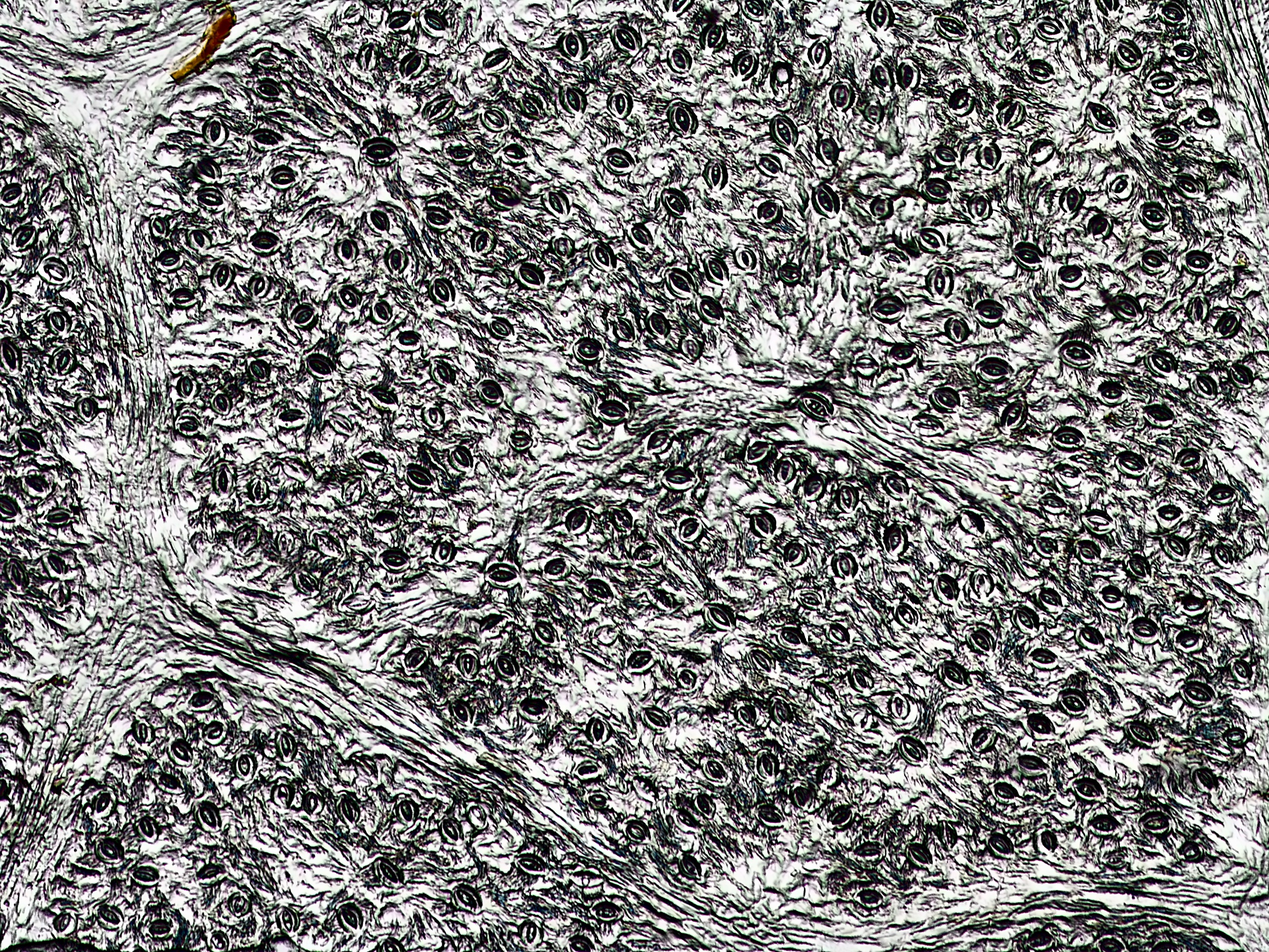stomata: (357, 137, 400, 169), (933, 659, 973, 693), (665, 99, 699, 139), (306, 525, 346, 559), (1175, 679, 1218, 710), (793, 391, 837, 421), (973, 355, 1014, 386), (1019, 709, 1059, 740), (1056, 340, 1097, 369), (1106, 293, 1145, 323), (538, 188, 572, 222), (877, 469, 912, 502), (609, 22, 645, 54), (592, 396, 633, 424), (243, 229, 282, 258), (1123, 617, 1163, 645), (1083, 100, 1118, 132), (448, 882, 483, 914), (894, 735, 930, 766), (660, 266, 696, 297), (917, 175, 955, 204), (372, 856, 404, 890), (1009, 240, 1045, 270), (597, 148, 637, 175), (35, 256, 71, 286), (1077, 510, 1118, 536), (1122, 719, 1160, 747), (868, 295, 906, 323), (933, 13, 971, 41), (445, 444, 478, 476), (1056, 687, 1090, 718), (768, 113, 799, 147), (47, 908, 81, 939), (340, 588, 379, 615), (657, 467, 699, 492), (811, 183, 841, 218), (421, 94, 457, 123), (873, 243, 910, 271), (828, 78, 856, 115), (569, 337, 606, 365), (249, 47, 287, 74), (929, 571, 960, 604), (659, 187, 692, 218), (332, 901, 365, 932), (163, 737, 196, 768), (199, 114, 230, 147), (923, 264, 953, 298), (557, 82, 587, 116), (512, 261, 546, 291), (744, 647, 779, 676), (1011, 753, 1053, 777), (484, 184, 520, 212), (363, 385, 399, 413), (243, 128, 285, 152), (848, 840, 888, 865), (998, 400, 1029, 432), (866, 0, 897, 32), (192, 800, 223, 832), (44, 305, 74, 338), (1144, 348, 1178, 377), (91, 903, 125, 932), (1072, 623, 1107, 651), (911, 227, 946, 255), (1048, 425, 1087, 450), (273, 725, 298, 764), (971, 298, 1007, 325), (605, 84, 632, 120), (1070, 777, 1107, 803), (1202, 482, 1239, 508), (482, 562, 519, 588), (426, 276, 458, 306), (401, 464, 434, 493), (473, 378, 506, 407), (701, 602, 735, 630), (901, 840, 935, 868), (1071, 538, 1105, 566), (699, 20, 727, 54), (87, 785, 115, 819), (263, 164, 297, 192), (1148, 125, 1186, 150), (1153, 0, 1191, 25), (1019, 59, 1057, 84), (806, 679, 841, 706), (1150, 500, 1185, 527), (372, 548, 411, 572), (190, 188, 229, 212), (631, 774, 661, 805), (701, 254, 732, 284), (587, 240, 617, 271), (446, 698, 477, 728), (964, 627, 996, 656), (1123, 551, 1152, 583), (965, 191, 994, 223), (578, 578, 615, 603), (301, 351, 338, 376), (91, 837, 124, 865), (702, 157, 729, 191), (2, 558, 29, 592), (1180, 249, 1215, 275), (815, 132, 841, 167), (418, 205, 453, 231), (829, 550, 859, 580), (946, 86, 976, 116), (695, 296, 725, 326), (1113, 40, 1144, 69), (992, 23, 1023, 52), (362, 205, 393, 234), (288, 301, 319, 330), (1008, 606, 1040, 634), (1025, 137, 1057, 165), (231, 523, 259, 555), (191, 155, 223, 183), (1051, 460, 1084, 487), (942, 317, 975, 344), (558, 28, 585, 61), (753, 748, 779, 782), (639, 705, 673, 731), (1114, 450, 1148, 476), (475, 612, 509, 638), (1143, 70, 1178, 95), (1030, 16, 1065, 41), (395, 794, 420, 829), (956, 508, 986, 537), (689, 790, 719, 819), (1159, 533, 1189, 562), (867, 61, 896, 91), (418, 8, 447, 38), (398, 51, 427, 81), (428, 358, 458, 387), (814, 761, 845, 789), (1104, 173, 1135, 201), (516, 917, 544, 948), (700, 756, 732, 783), (584, 714, 611, 746), (1172, 447, 1204, 474), (1138, 202, 1170, 229), (1058, 183, 1085, 215), (994, 101, 1026, 128), (927, 142, 959, 169), (334, 794, 361, 826), (229, 751, 256, 783), (1095, 584, 1128, 610), (21, 473, 54, 499), (439, 140, 478, 162), (769, 59, 792, 96), (752, 803, 786, 828), (806, 37, 831, 71), (498, 142, 532, 167), (1, 339, 26, 373), (48, 345, 77, 374), (9, 222, 38, 251), (988, 780, 1023, 804), (622, 650, 657, 674), (547, 232, 575, 262), (169, 412, 204, 436), (248, 77, 283, 101), (985, 833, 1016, 860), (505, 425, 536, 452), (365, 510, 403, 532), (895, 60, 921, 92), (732, 49, 758, 81), (1136, 811, 1172, 834), (1140, 404, 1176, 427), (1054, 264, 1087, 289), (11, 428, 44, 453), (883, 520, 907, 554), (774, 626, 808, 650), (645, 307, 669, 341), (164, 287, 201, 309), (747, 510, 776, 538), (891, 601, 920, 629), (846, 665, 874, 694), (1226, 361, 1255, 389), (1189, 372, 1218, 400), (607, 504, 635, 533), (563, 507, 591, 536), (742, 437, 772, 464), (822, 622, 852, 649), (71, 394, 101, 421), (930, 385, 961, 411), (767, 695, 793, 726), (274, 905, 300, 936), (1018, 503, 1053, 526), (514, 854, 549, 877), (182, 690, 217, 713), (184, 228, 219, 251), (1084, 814, 1124, 834), (1183, 294, 1208, 326), (647, 587, 679, 612), (792, 587, 825, 611), (1025, 646, 1058, 670), (1021, 927, 1054, 951), (631, 542, 664, 566), (587, 899, 623, 921), (479, 107, 512, 131), (780, 539, 808, 567), (419, 402, 448, 429), (517, 92, 546, 119), (245, 357, 274, 384), (1172, 174, 1206, 197), (1084, 214, 1114, 240), (975, 142, 1001, 172), (753, 152, 783, 178), (531, 620, 561, 646), (430, 536, 456, 566), (969, 568, 994, 599), (480, 48, 511, 73), (192, 862, 227, 884), (1137, 250, 1169, 274), (908, 413, 941, 436), (1036, 585, 1064, 612), (755, 198, 783, 225), (354, 450, 390, 471), (212, 462, 233, 498), (676, 852, 702, 881), (666, 44, 692, 73), (291, 568, 320, 594), (801, 472, 826, 502), (491, 654, 521, 679), (519, 695, 549, 720), (270, 778, 295, 808), (129, 715, 154, 745), (1094, 381, 1126, 404), (539, 557, 571, 580), (301, 786, 324, 818), (340, 474, 363, 506), (275, 405, 307, 428), (1171, 630, 1206, 651), (1212, 311, 1239, 338), (402, 648, 429, 675), (225, 891, 252, 918), (469, 228, 496, 255), (327, 410, 354, 437), (626, 223, 654, 249), (354, 43, 380, 71), (887, 342, 920, 364), (886, 691, 911, 720), (1191, 768, 1220, 793), (208, 389, 233, 418), (209, 261, 234, 290), (835, 483, 859, 513), (392, 328, 423, 351), (128, 864, 160, 886), (145, 918, 177, 940), (46, 581, 72, 608), (851, 889, 886, 909), (1175, 595, 1210, 615), (1036, 493, 1071, 513), (199, 720, 227, 745), (384, 247, 409, 275), (787, 784, 816, 808), (334, 235, 358, 264), (850, 353, 880, 376), (937, 819, 960, 849), (456, 649, 479, 679), (273, 530, 296, 560), (39, 507, 73, 527), (645, 428, 671, 454), (868, 194, 894, 220), (436, 816, 462, 842), (860, 101, 887, 126), (0, 182, 27, 207), (1031, 534, 1059, 558), (144, 214, 172, 238), (969, 728, 998, 751), (39, 553, 68, 576), (486, 317, 516, 339), (380, 11, 413, 31), (826, 806, 857, 827), (1228, 657, 1254, 682), (678, 335, 703, 361), (133, 816, 158, 842), (611, 315, 635, 342), (153, 771, 181, 794), (738, 0, 767, 22), (370, 299, 394, 325), (246, 274, 270, 300), (624, 822, 651, 845), (175, 372, 198, 399), (152, 249, 183, 269), (1176, 840, 1204, 862), (571, 760, 600, 781), (1089, 936, 1127, 952), (1036, 827, 1060, 852), (733, 245, 756, 271), (205, 929, 231, 952), (1193, 105, 1220, 127), (335, 285, 359, 309), (851, 708, 876, 731), (1211, 543, 1234, 568), (677, 519, 703, 541), (775, 262, 801, 284), (672, 810, 700, 830), (1169, 41, 1197, 61), (774, 456, 793, 485), (733, 704, 758, 726), (466, 803, 488, 828), (246, 477, 268, 502), (592, 625, 618, 646), (1219, 727, 1249, 745), (1099, 849, 1127, 868), (672, 666, 694, 690), (585, 792, 610, 812)
